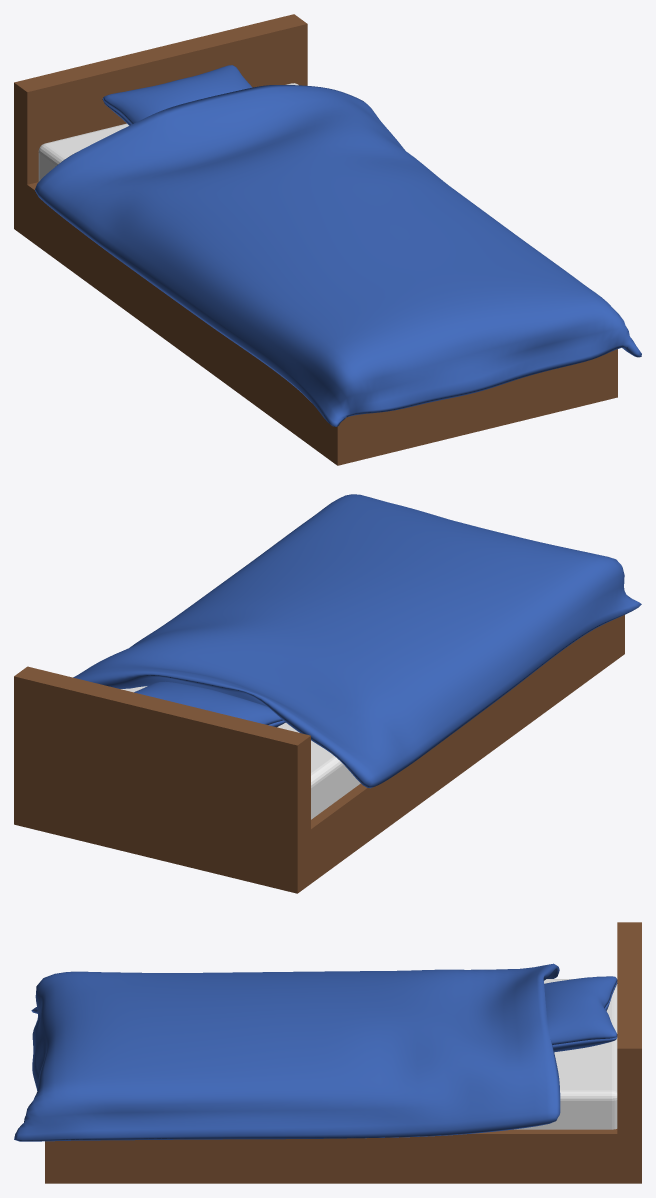
The model's file is Bed.fbx.
The picture shows the model from 3 angles, top to bottom: view 1: azimuth 30°, elevation 25°; view 2: azimuth 150°, elevation 25°; view 3: azimuth 270°, elevation 25°; orthographic projection. The views are drawn at different scales.
Visible parts, largest first — view 1: Bed; view 2: Bed; view 3: Bed.
Part boxes in pixels (left/top/right/bottom): Bed: left=14, top=14, right=641, bottom=465; Bed: left=14, top=494, right=641, bottom=893; Bed: left=14, top=922, right=641, bottom=1183.
Size of the model in its own units: 841 by 476 by 200.
